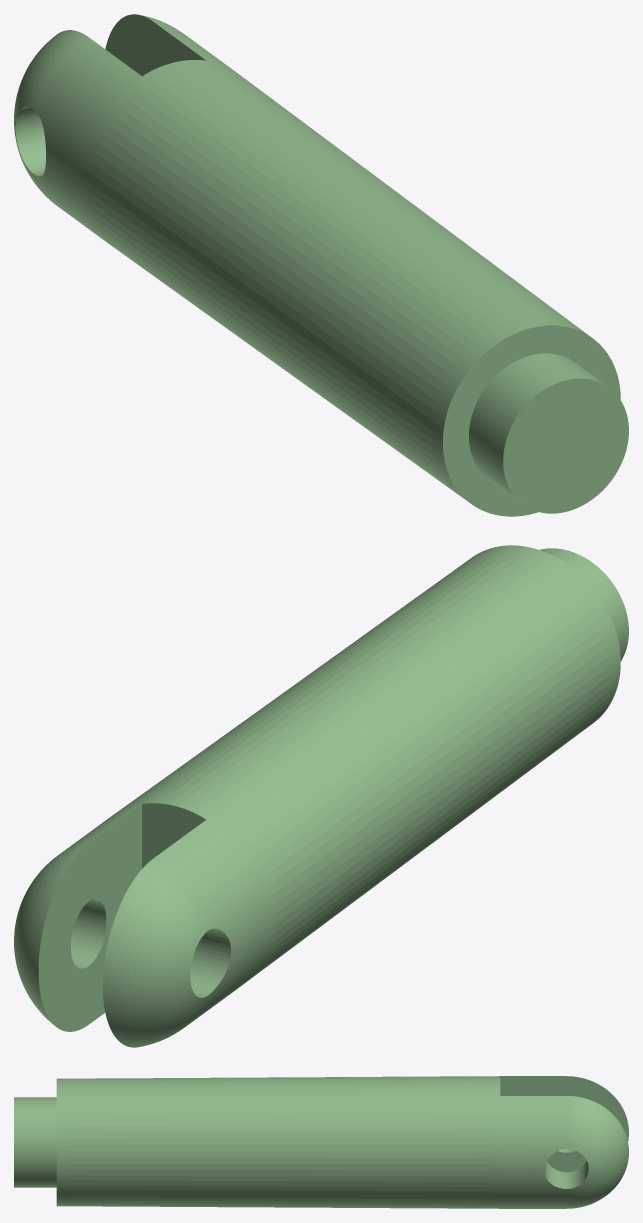
3 views of the same model, one above another, from view 1: azimuth 30°, elevation 25°; view 2: azimuth 150°, elevation 25°; view 3: azimuth 270°, elevation 25° (orthographic). The views are drawn at different scales.
Visible parts, largest first — view 1: node; view 2: node; view 3: node.
Boxes of the visible parts, x1,y1,x2,y2 form: node: (14,14,628,516); node: (14,545,628,1047); node: (14,1076,628,1208).
Bounding box in the file's own units: 0.0747 × 0.0747 × 0.3463.
